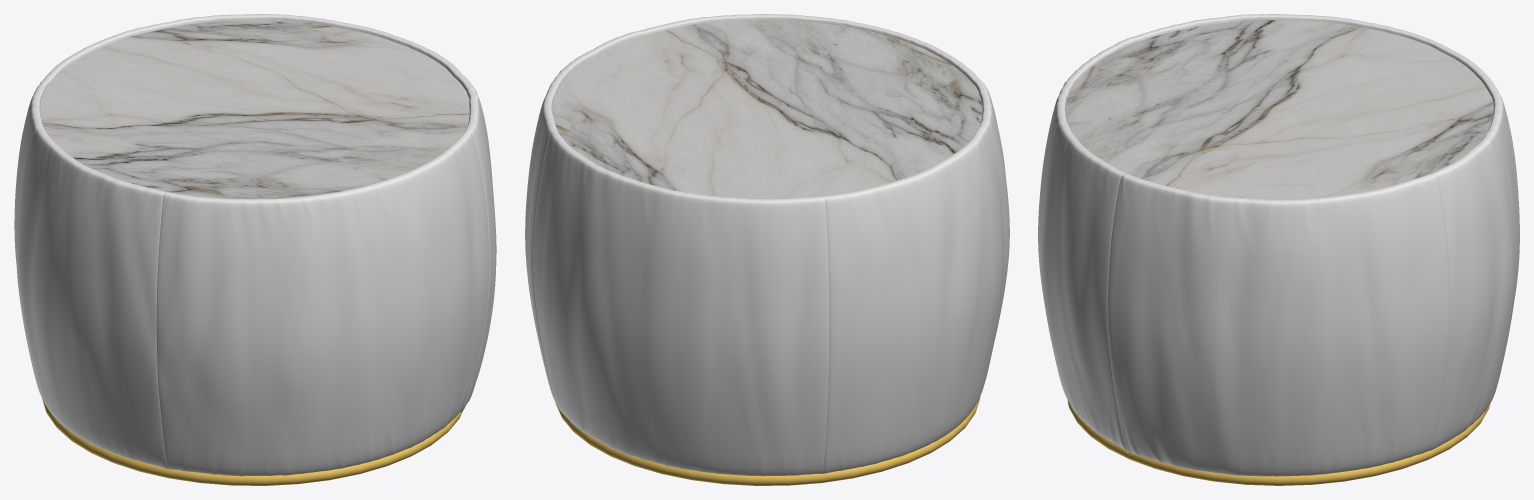
File: SLN_SHERWOOD-SMALL.glb
3 views of the same model, side by side, from view 1: azimuth 30°, elevation 25°; view 2: azimuth 150°, elevation 25°; view 3: azimuth 270°, elevation 25° (orthographic).
Parts seen in each view (by area): view 1: SHERWOOD SMALL; view 2: SHERWOOD SMALL; view 3: SHERWOOD SMALL.
Part boxes in pixels (left/top/right/bottom): SHERWOOD SMALL: left=14, top=14, right=496, bottom=485; SHERWOOD SMALL: left=525, top=14, right=1009, bottom=485; SHERWOOD SMALL: left=1038, top=14, right=1519, bottom=485.
Bounding box in the file's own units: 0.6786 × 0.4496 × 0.675.
3 materials, 1 textured.
